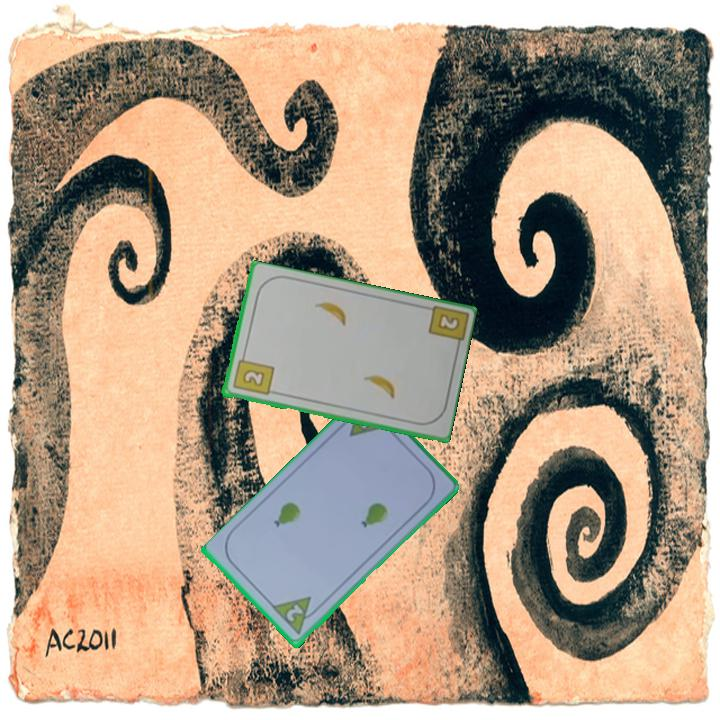2b: (229, 350, 276, 398), (434, 310, 463, 334)
2p: (282, 601, 306, 625)
